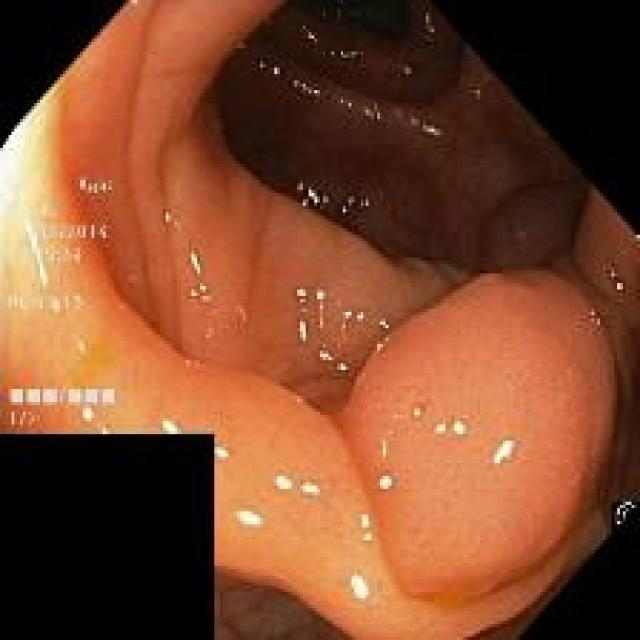Polyps: (335, 272, 615, 598)
